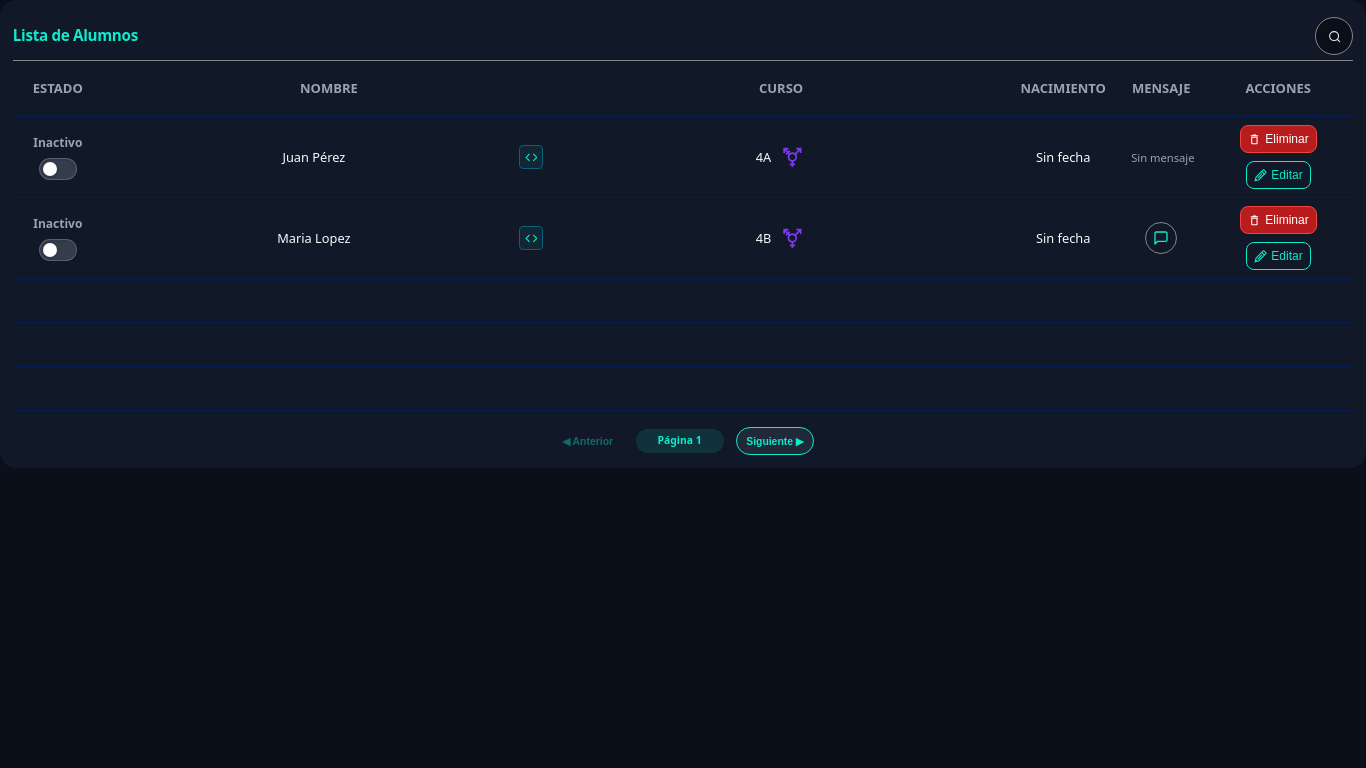
Test: AlumnosList Component › [AlumnosList #05.1] Muestra la observación al pulsar el icono de mensaje
The image size is (1366, 768).
Click the button named "Ver observación de Maria": (1161, 238) [1145,222,1177,254]
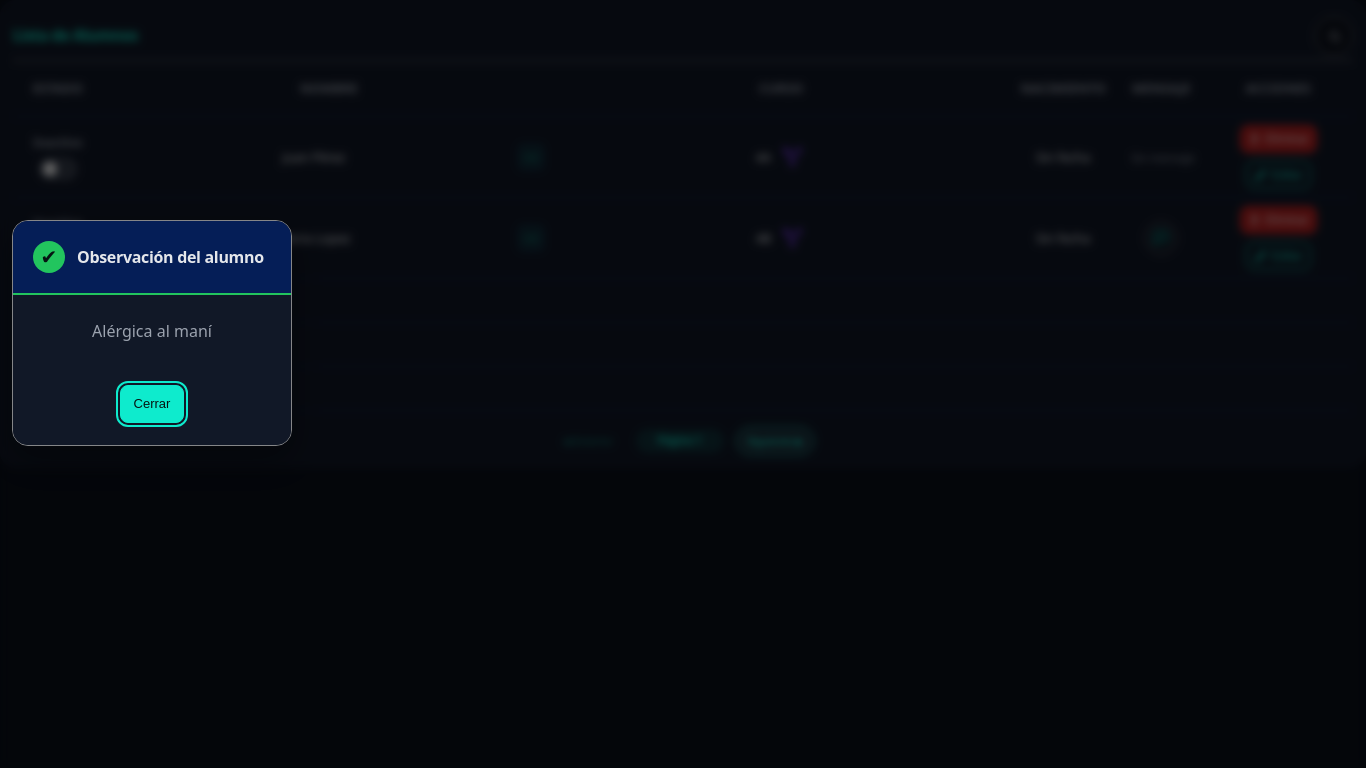
Now the dialog is shown
Now the text "Alérgica al maní" is shown, box [92,320,212,342]
